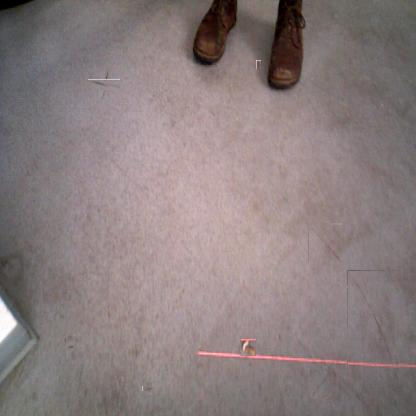dirty: (240, 338, 256, 356)
mark: (347, 271, 399, 382), (308, 223, 342, 264), (310, 369, 332, 399), (94, 74, 115, 95), (65, 335, 77, 347), (144, 384, 154, 393), (256, 60, 261, 69)
